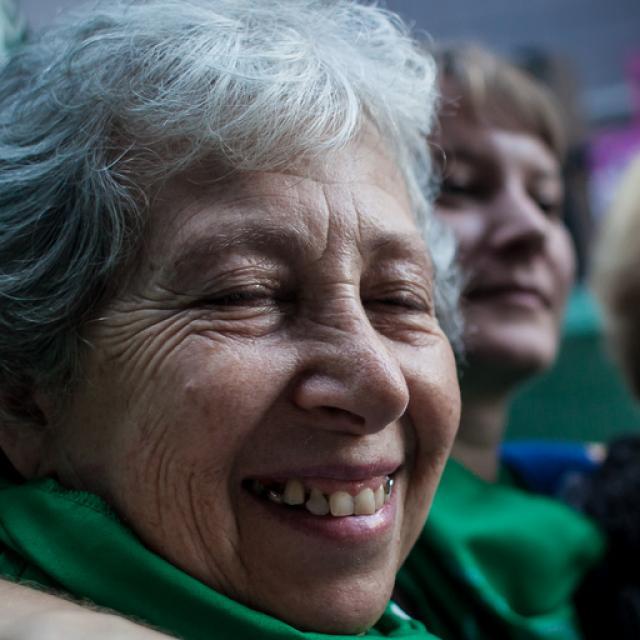Acne: (168, 377, 204, 402)
